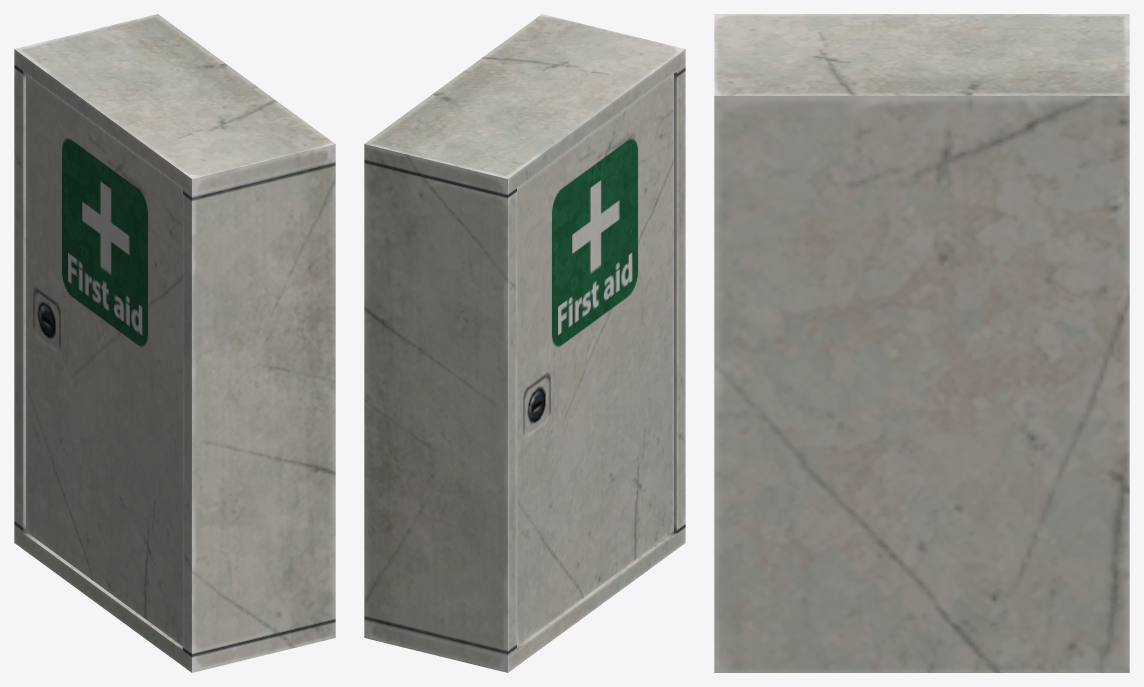
File: firstAidCabinet.fbx
The picture shows the model from 3 angles, left to right: view 1: azimuth 30°, elevation 25°; view 2: azimuth 150°, elevation 25°; view 3: azimuth 270°, elevation 25°; orthographic projection. The views are drawn at different scales.
Visible parts, largest first — view 1: firstAidCabinet, firstAidCabinet_door; view 2: firstAidCabinet, firstAidCabinet_door; view 3: firstAidCabinet.
Part boxes in pixels (x1,y1,x2,y2): firstAidCabinet: (14,14,335,672); firstAidCabinet_door: (26,74,182,646); firstAidCabinet: (364,14,685,672); firstAidCabinet_door: (517,74,673,646); firstAidCabinet: (714,14,1129,672).
Size of the model in its own units: 0.14 by 0.46 by 0.3.
